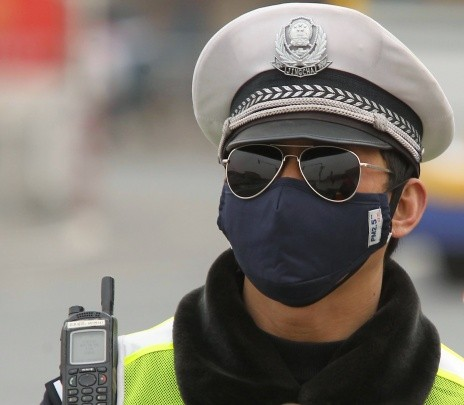with_mask: (219, 115, 427, 311)
